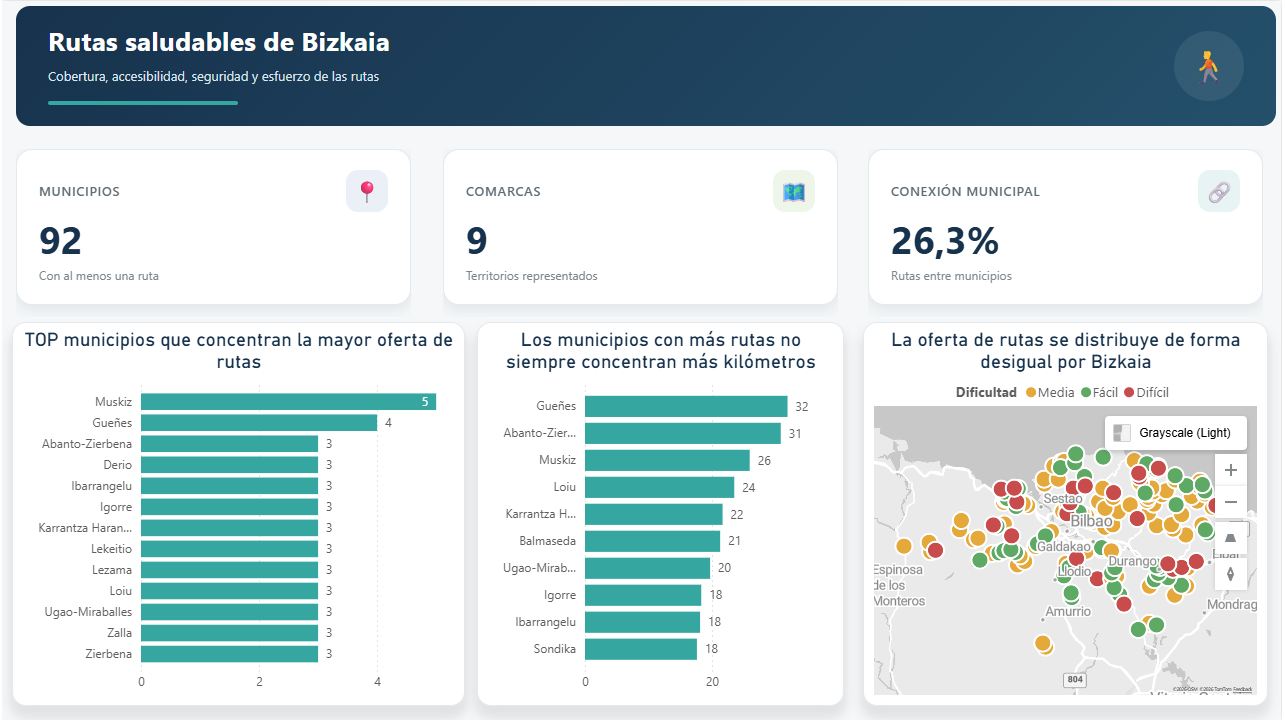

The dashboard page shown, as its layout file describes it:
{"tool":"powerbi","page":{"name":"05_Cobertura_Territorial","canvas":[1280,720],"ordinal":5},"visuals":[{"type":"htmlContent443BE3AD55E043BF878BED274D3A6865","fields":{"content":["_HTML.Cabecera HTML"]},"box":[9.5,0,1270.5,131.7],"z":0},{"type":"htmlContent443BE3AD55E043BF878BED274D3A6865","fields":{"content":["_HTML.KPI Comarcas Cobertura HTML"]},"box":[436.7,143.2,405.2,177.5],"z":1000},{"type":"htmlContent443BE3AD55E043BF878BED274D3A6865","fields":{"content":["FactRoutes.KPI Rutas Entre Municipios HTML"]},"box":[861.9,143.2,405.2,177.5],"z":2000},{"type":"htmlContent443BE3AD55E043BF878BED274D3A6865","fields":{"content":["_HTML.KPI Municipios Cobertura HTML"]},"box":[10,143.2,405.2,177.5],"z":3000},{"type":"clusteredBarChart","title":"TOP municipios que concentran la mayor oferta de rutas","fields":{"Category":["FactRoutes.NombreMunicipioInicio"],"Y":["_Medidas Dax.Total Rutas"]},"box":[10.6,320.9,453.1,384.4],"z":4000},{"type":"clusteredBarChart","title":"Los municipios con más rutas no siempre concentran más kilómetros","fields":{"Category":["FactRoutes.NombreMunicipioInicio"],"Y":["_Medidas Dax.Kilómetros Totales"]},"box":[476,320.9,366.7,384.4],"z":5000},{"type":"azureMap","title":"La oferta de rutas se distribuye de forma desigual por Bizkaia","fields":{"Y":["FactRoutes.latitude"],"X":["FactRoutes.longitude"],"Size":["_Medidas Dax.Total Rutas"],"Series":["FactRoutes.DificultadOficial"]},"box":[862,321,405,384],"z":5001}]}

Visuals, with their boxes in screenshot pixels (x1, y1, x2, y2), scaled from the page's 1280x720 canvas onto the 1285x724 screenshot:
htmlContent443BE3AD55E043BF878BED274D3A6865 - _HTML.Cabecera HTML: bbox=[10, 0, 1284, 132]
htmlContent443BE3AD55E043BF878BED274D3A6865 - _HTML.KPI Comarcas Cobertura HTML: bbox=[438, 144, 845, 322]
htmlContent443BE3AD55E043BF878BED274D3A6865 - FactRoutes.KPI Rutas Entre Municipios HTML: bbox=[865, 144, 1272, 322]
htmlContent443BE3AD55E043BF878BED274D3A6865 - _HTML.KPI Municipios Cobertura HTML: bbox=[10, 144, 417, 322]
"TOP municipios que concentran la mayor oferta de rutas" clusteredBarChart: bbox=[11, 323, 466, 709]
"Los municipios con más rutas no siempre concentran más kilómetros" clusteredBarChart: bbox=[478, 323, 846, 709]
"La oferta de rutas se distribuye de forma desigual por Bizkaia" azureMap: bbox=[865, 323, 1272, 709]
